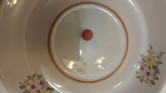Dolorex: (81, 29, 94, 42)
